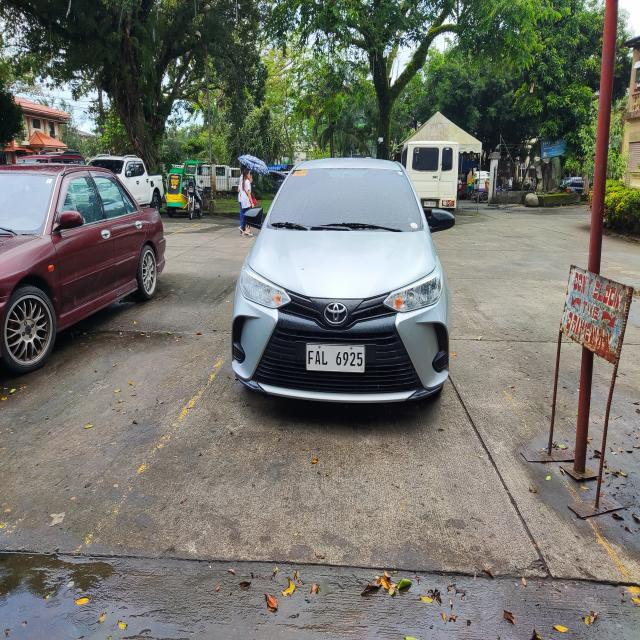LicensePlate: (298, 338, 376, 384)
